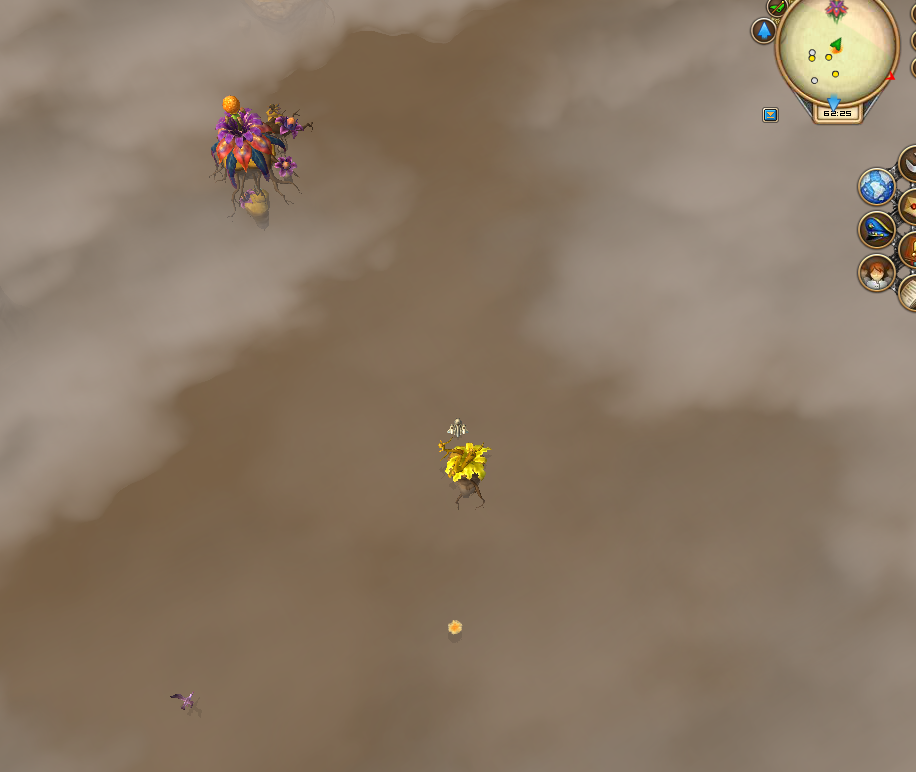dandelion-empty: (437, 441, 496, 505)
fluff: (440, 616, 469, 643)
